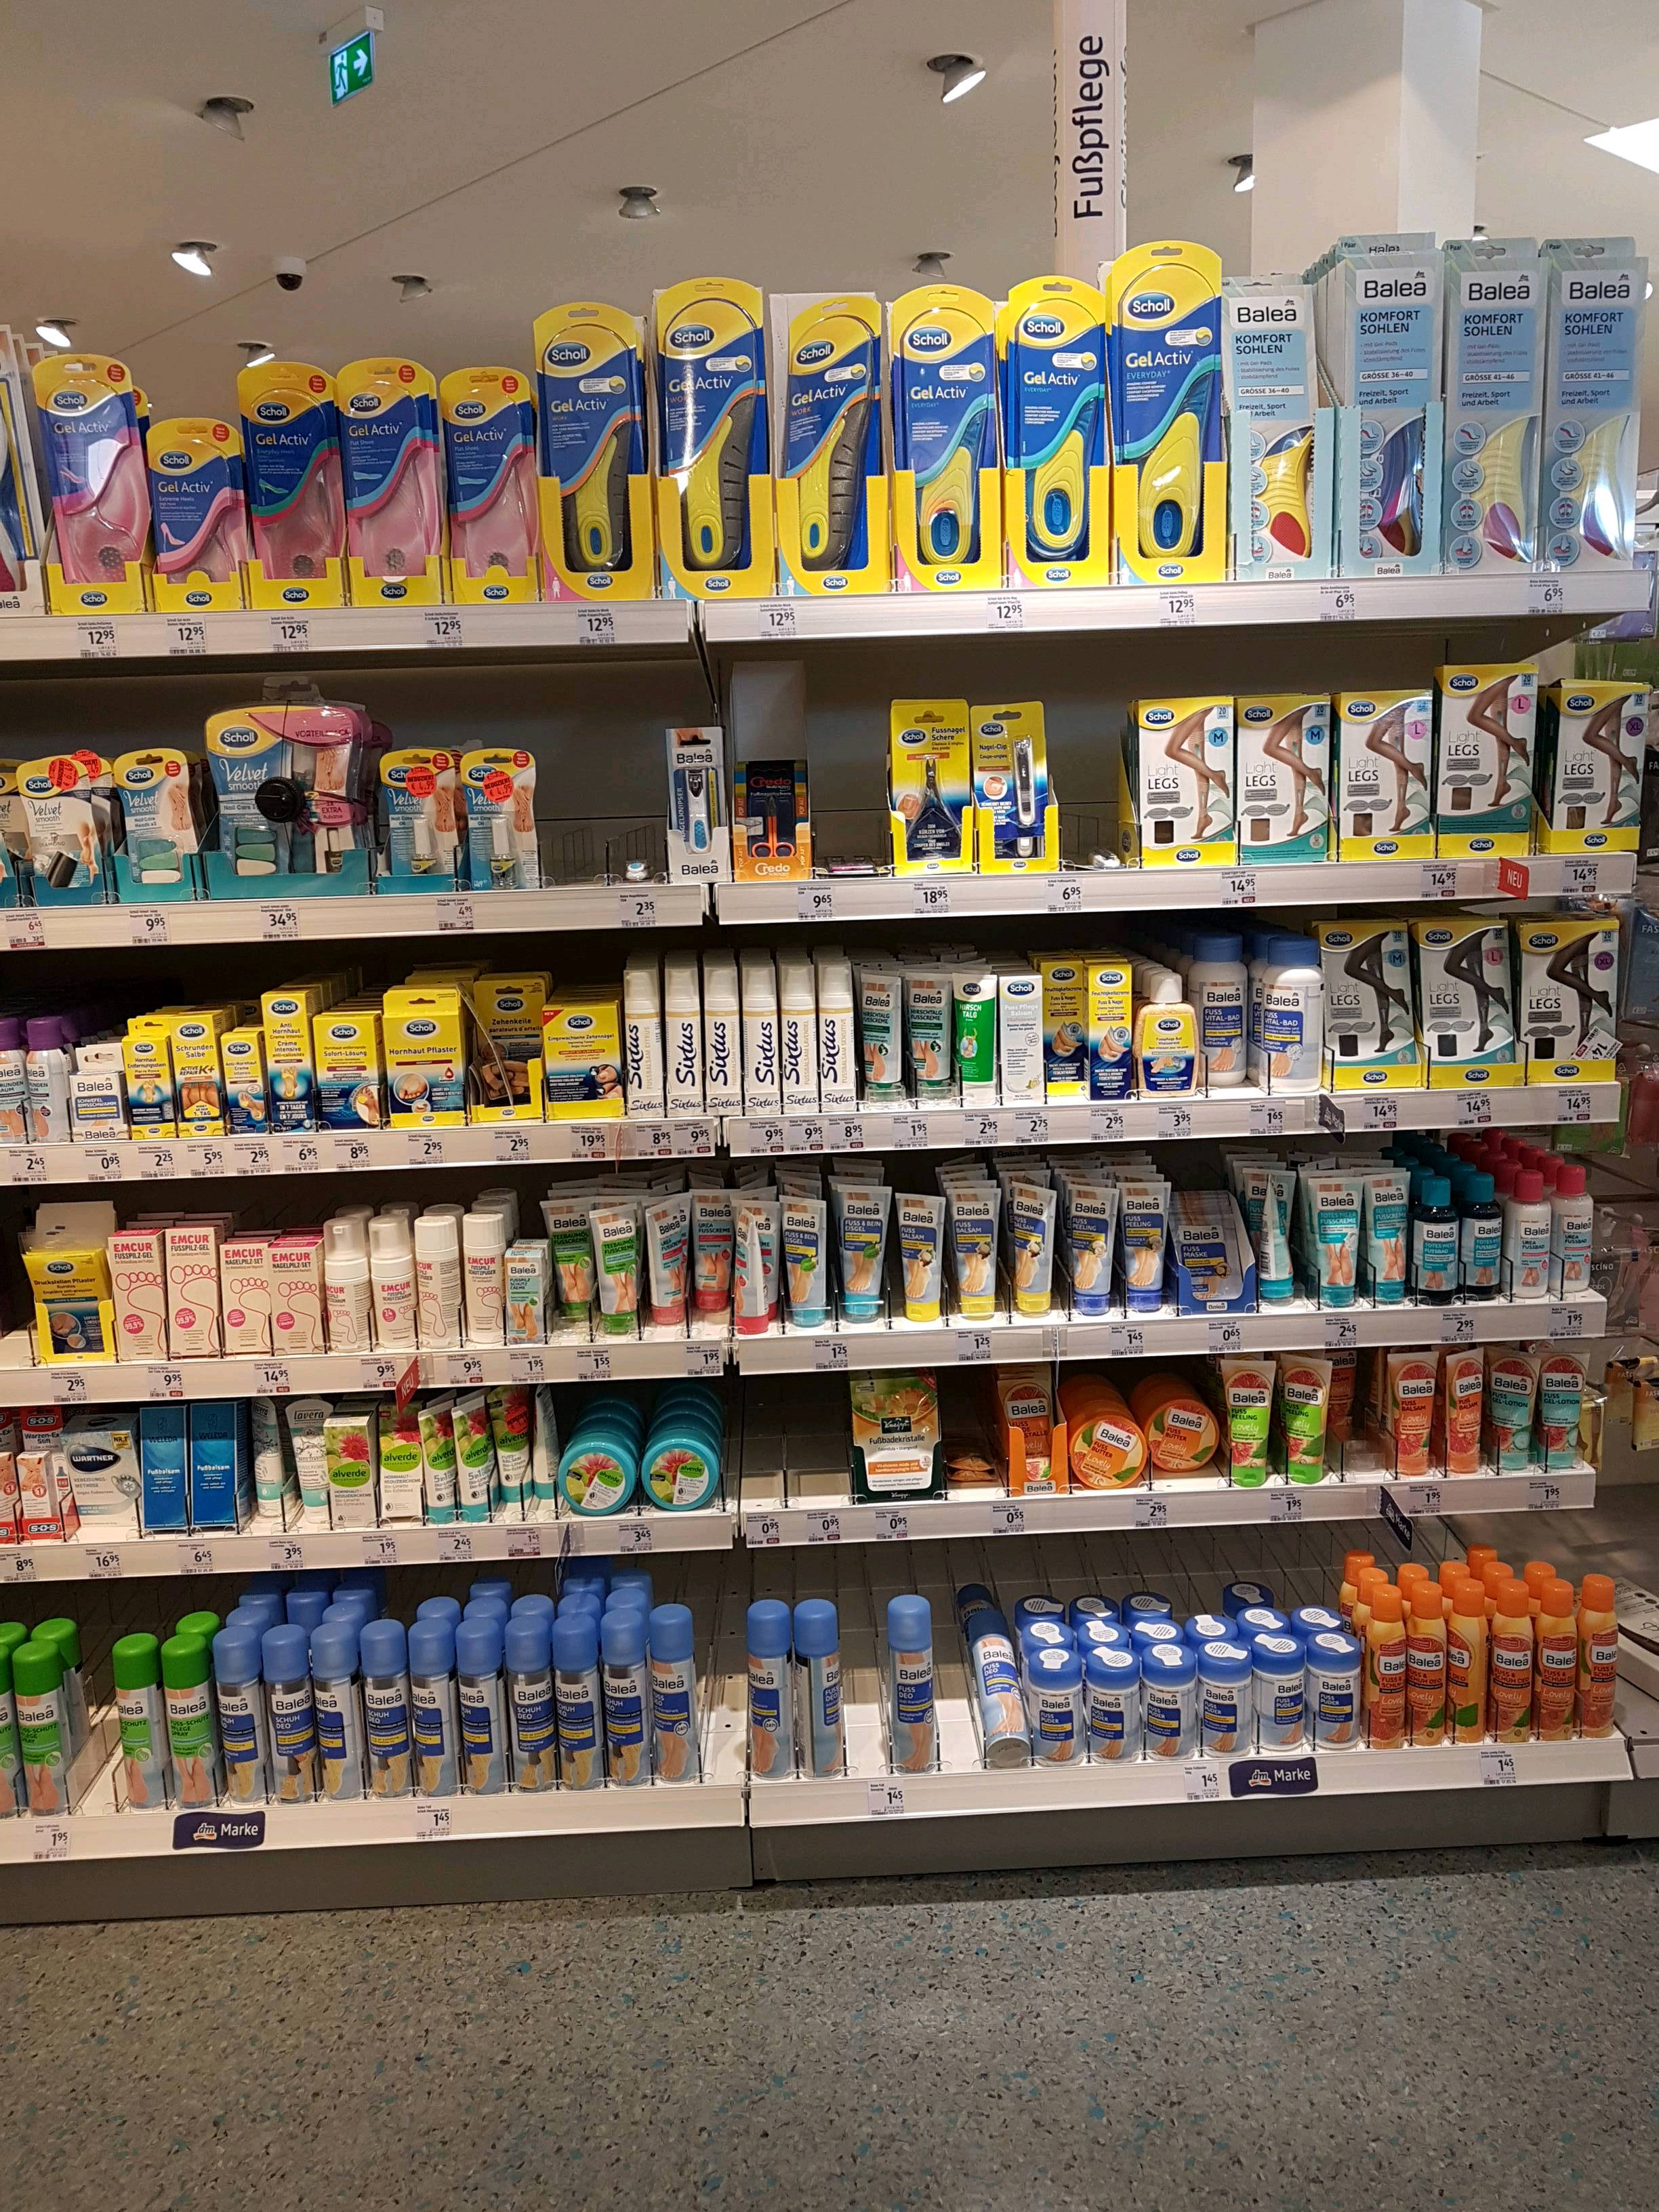Out-of-stock: (777, 1369, 854, 1507)
